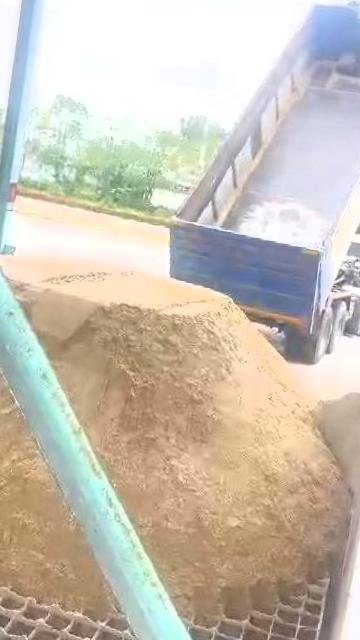sand: (3, 257, 347, 614), (0, 322, 109, 610), (315, 376, 360, 495)
